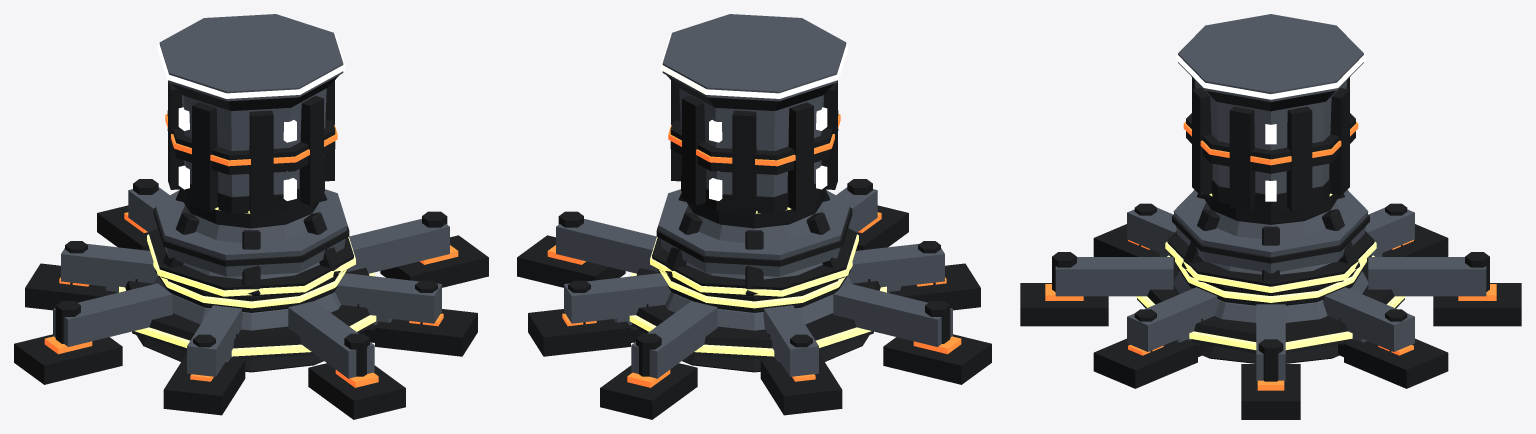
File: tower_apex_base.glb
The picture shows the model from 3 angles, left to right: view 1: azimuth 30°, elevation 25°; view 2: azimuth 150°, elevation 25°; view 3: azimuth 270°, elevation 25°; orthographic projection. The views are drawn at different scales.
Visible parts, largest first — view 1: TowerApex_Base; view 2: TowerApex_Base; view 3: TowerApex_Base.
Boxes of the visible parts, <box> form: TowerApex_Base: <box>14,14,488,419</box>; TowerApex_Base: <box>517,14,991,419</box>; TowerApex_Base: <box>1020,14,1521,419</box>.
Size of the model in its own units: 1.7 by 0.9752 by 1.7.
